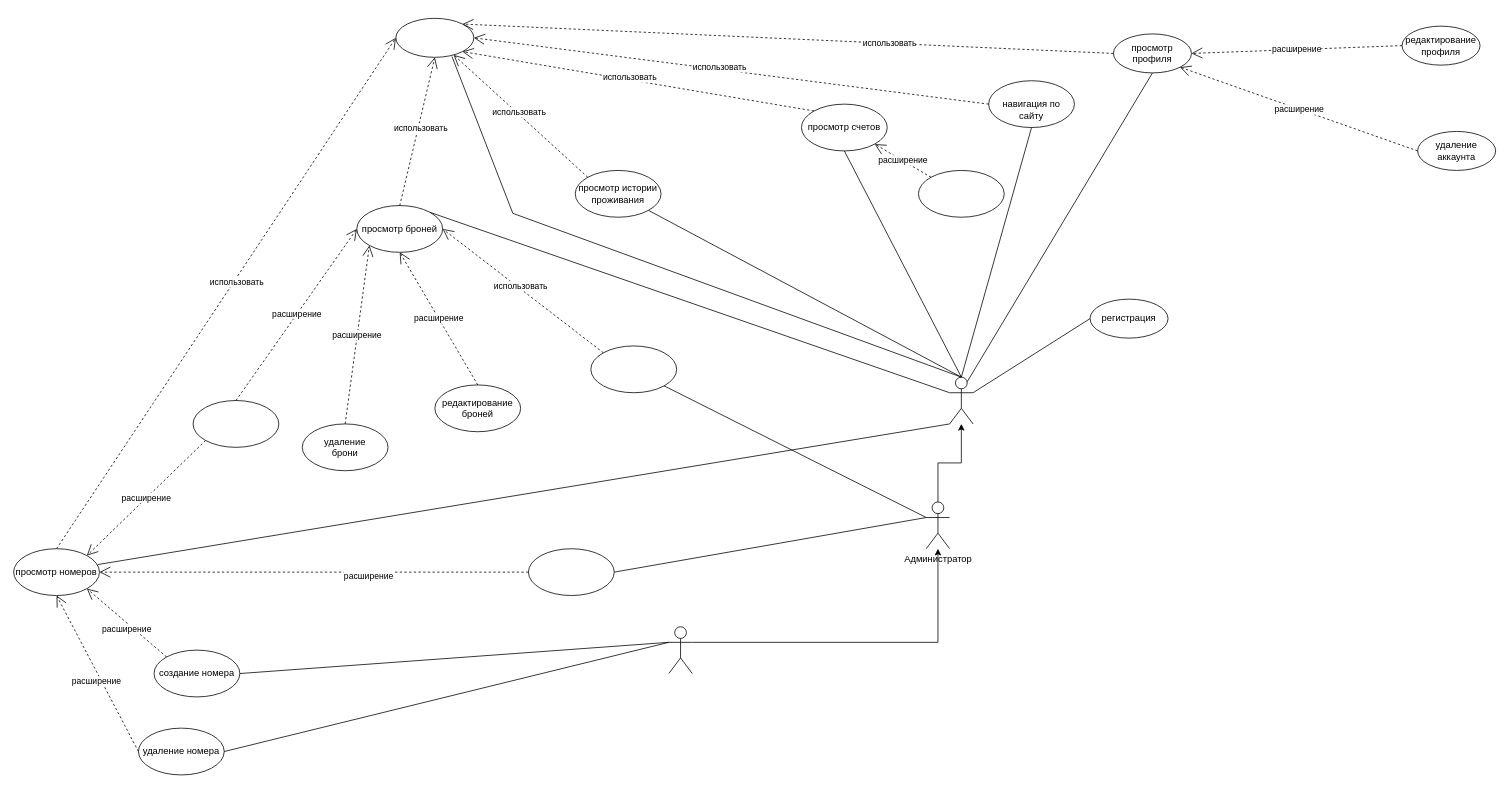
The diagram is 1509 pixels wide and 789 high, and some of its shapes have lost their labels. Here are the shapes that lost their labels. From the top down, the box of each, then its label:
(395, 18, 474, 57): авторизация
(918, 170, 1004, 217): оплата счетов
(590, 345, 677, 393): Просмотр всех броней
(949, 376, 973, 424): Клиент
(192, 400, 279, 447): создание брони
(528, 548, 614, 596): редактирование номеров
(668, 626, 692, 674): Менеджер
